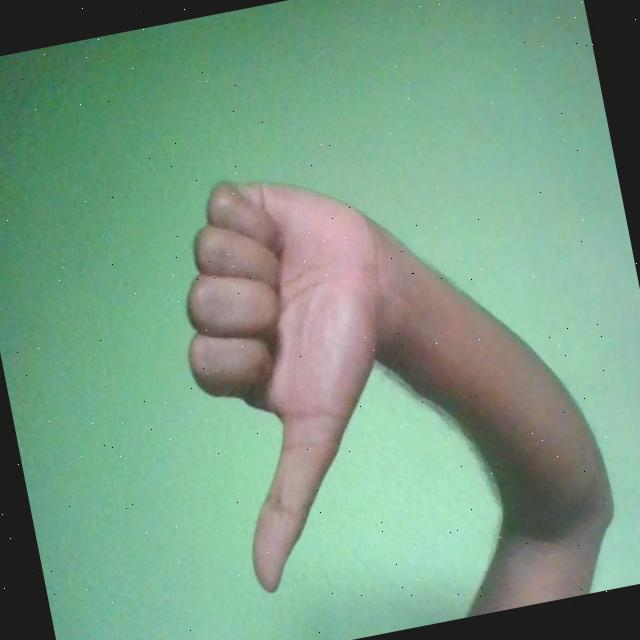Dislike: (156, 153, 442, 602)
